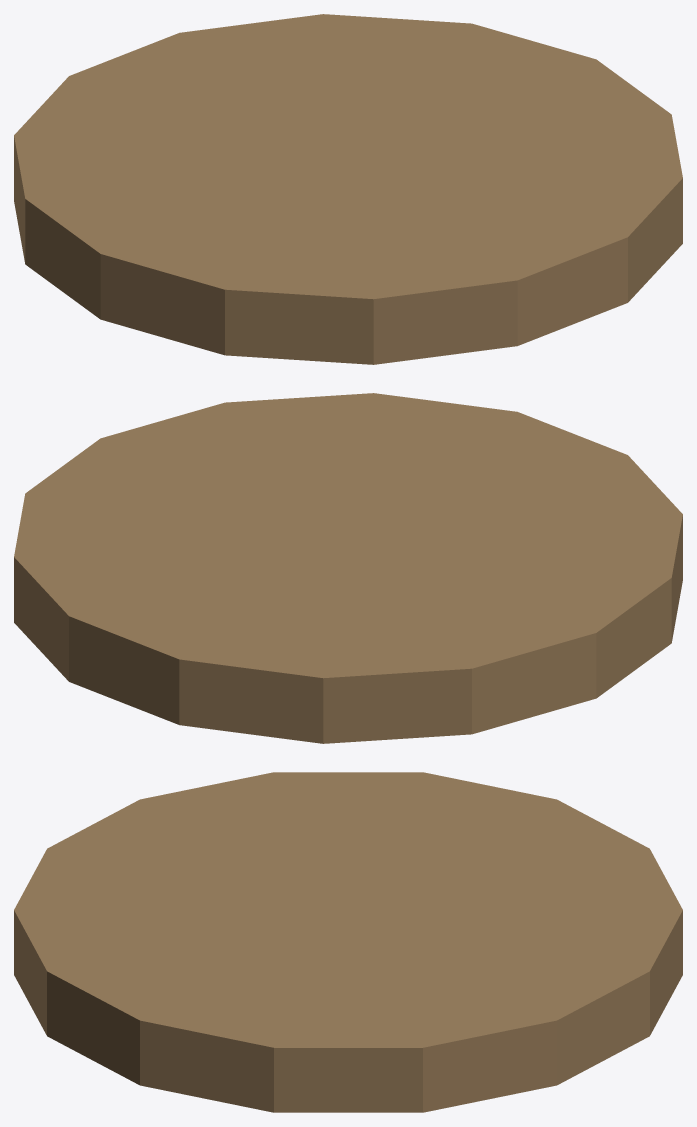
File: glass_grime.glb
3 views of the same model, one above another, from view 1: azimuth 30°, elevation 25°; view 2: azimuth 150°, elevation 25°; view 3: azimuth 270°, elevation 25° (orthographic).
Visible parts, largest first — view 1: GlassGrime; view 2: GlassGrime; view 3: GlassGrime.
Boxes of the visible parts, x1=… form: GlassGrime: x1=14, y1=14, x2=682, y2=364; GlassGrime: x1=14, y1=393, x2=682, y2=743; GlassGrime: x1=14, y1=772, x2=682, y2=1112.
Size of the model in its own units: 0.0546 by 0.006 by 0.056.
